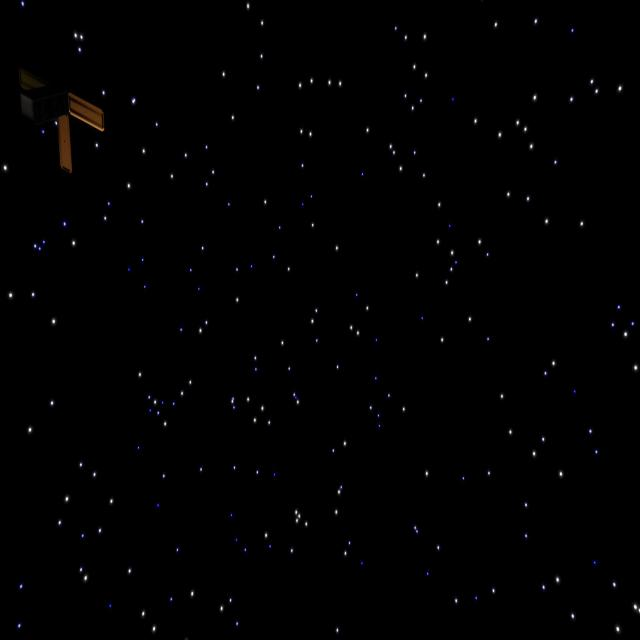satellite: (18, 57, 113, 170)
